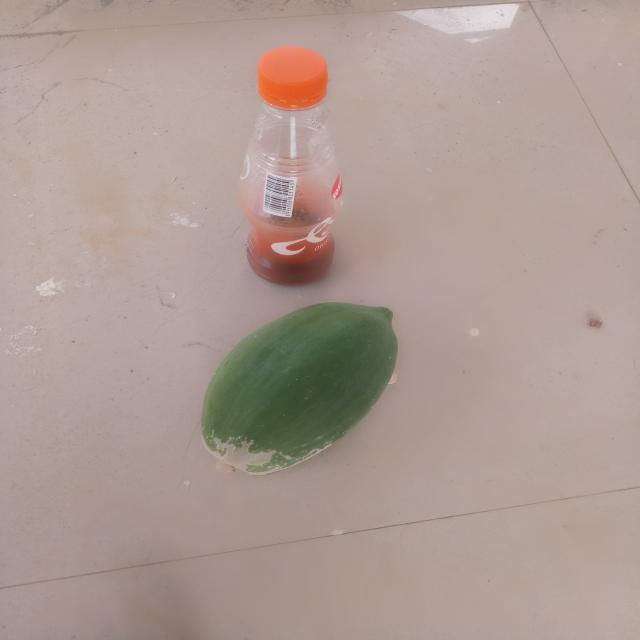Pepaya unrippen: (202, 301, 406, 472)
